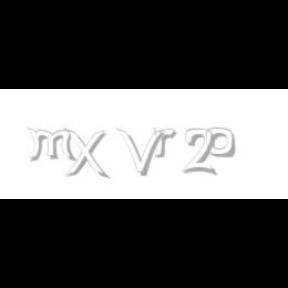2: (181, 128, 215, 176)
V: (117, 128, 165, 176)
X: (63, 128, 107, 180)
m: (26, 128, 78, 162)
o: (206, 128, 234, 158)
r: (152, 128, 180, 158)
